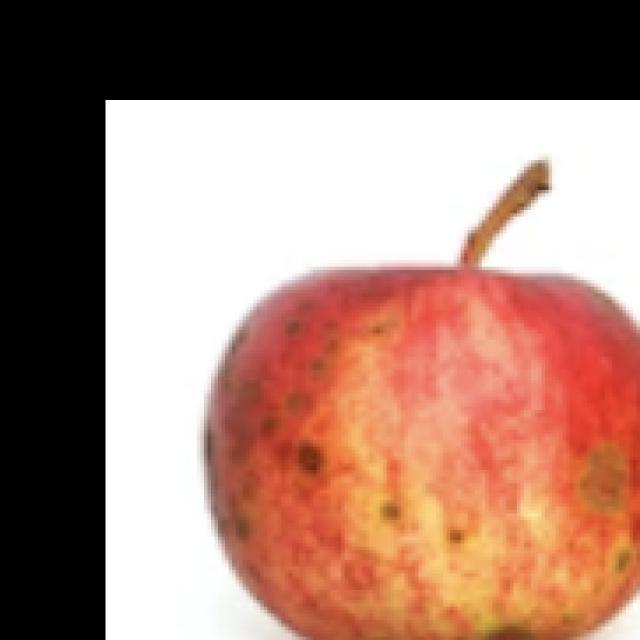Rotten: (193, 255, 640, 640)
